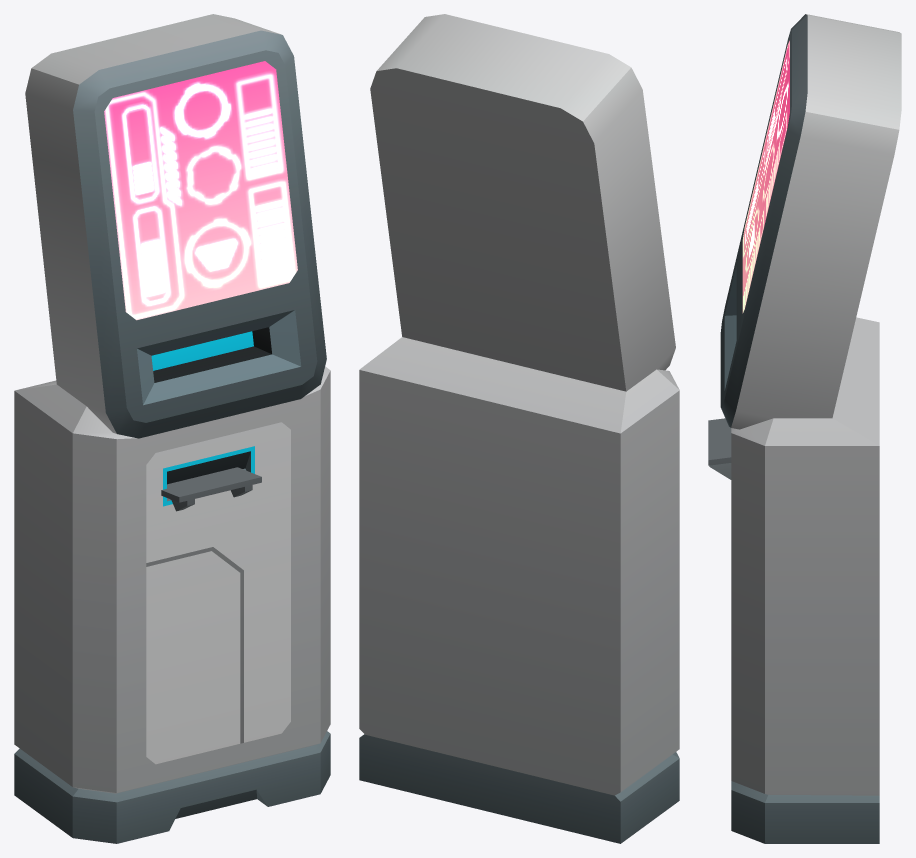
The model's file is Terminal_007.glb.
The picture shows the model from 3 angles, left to right: view 1: azimuth 30°, elevation 25°; view 2: azimuth 150°, elevation 25°; view 3: azimuth 270°, elevation 25°; orthographic projection. The views are drawn at different scales.
Visible parts, largest first — view 1: Terminal_007; view 2: Terminal_007; view 3: Terminal_007.
Part boxes in pixels (left/top/right/bottom): Terminal_007: left=14, top=14, right=330, bottom=843; Terminal_007: left=359, top=14, right=679, bottom=843; Terminal_007: left=708, top=14, right=901, bottom=843.
Bounding box in the file's own units: 0.7 × 1.92 × 0.4616.
3 materials, 3 textured.
